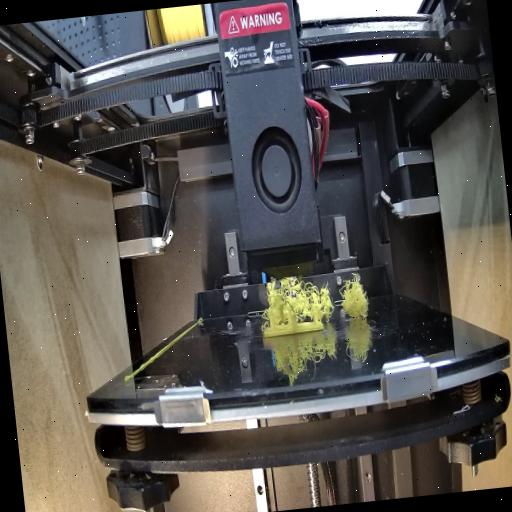spaghetti: (262, 262, 372, 328)
